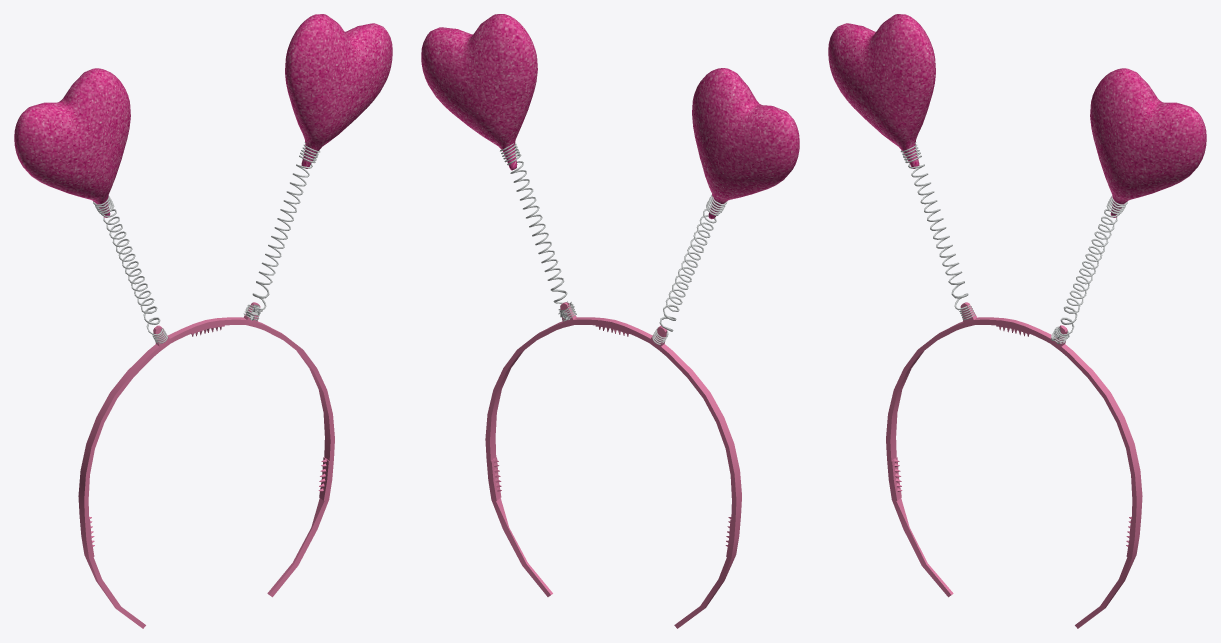
The picture shows the model from 3 angles, left to right: view 1: azimuth 30°, elevation 25°; view 2: azimuth 150°, elevation 25°; view 3: azimuth 330°, elevation 25°; orthographic projection.
Visible parts, largest first — view 1: Hairband; view 2: Hairband; view 3: Hairband.
Part boxes in pixels (x1=…): Hairband: x1=14, y1=14, x2=392, y2=628; Hairband: x1=421, y1=14, x2=799, y2=628; Hairband: x1=828, y1=14, x2=1206, y2=628.
Bounding box in the file's own units: 1.75 × 2.54 × 0.2232.
1 material, 1 textured.
